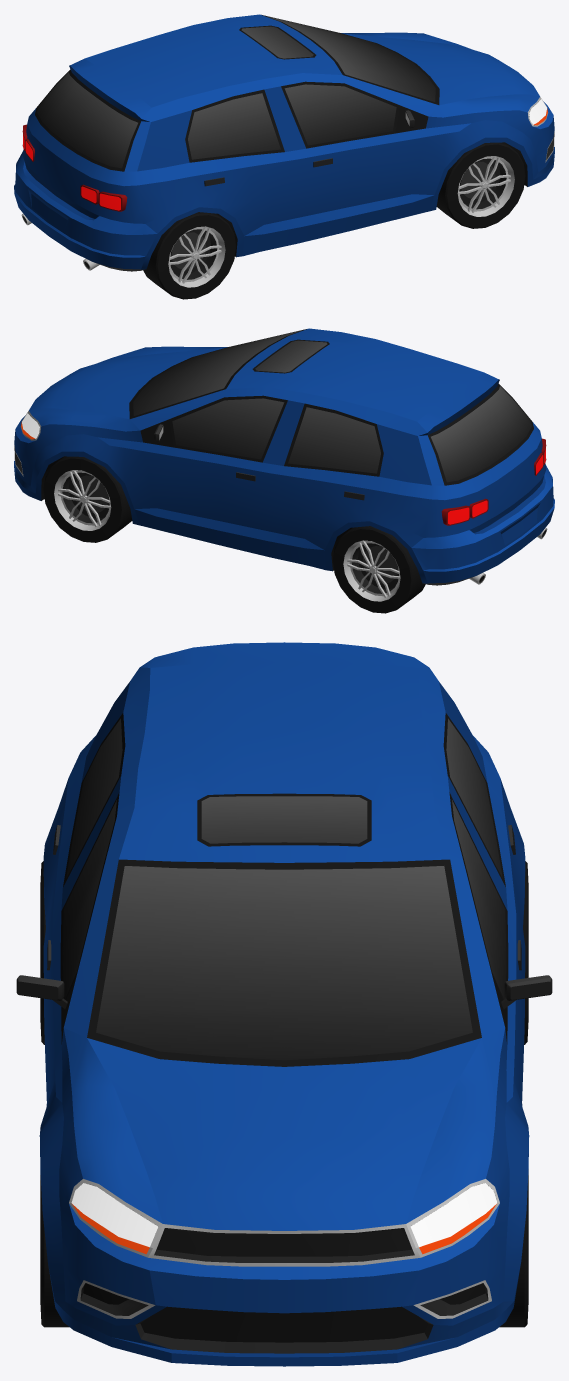
Rendered from Car_240.glb.
The picture shows the model from 3 angles, top to bottom: view 1: azimuth 30°, elevation 25°; view 2: azimuth 150°, elevation 25°; view 3: azimuth 270°, elevation 25°; orthographic projection. The views are drawn at different scales.
Parts seen in each view (by area): view 1: Car_240, wheel_3_Car_240_Wheel_2R, wheel_1_Car_240_Wheel_1R; view 2: Car_240, wheel_2_Car_240_Wheel_2L, wheel_0_Car_240_Wheel_1L; view 3: Car_240, wheel_0_Car_240_Wheel_1L, wheel_1_Car_240_Wheel_1R.
Boxes of the visible parts, left/top/right/bottom form: Car_240: left=14, top=14, right=554, bottom=271; wheel_3_Car_240_Wheel_2R: left=143, top=212, right=236, bottom=299; wheel_1_Car_240_Wheel_1R: left=436, top=142, right=525, bottom=228; Car_240: left=14, top=328, right=554, bottom=585; wheel_2_Car_240_Wheel_2L: left=332, top=526, right=425, bottom=613; wheel_0_Car_240_Wheel_1L: left=43, top=456, right=132, bottom=542; Car_240: left=16, top=642, right=552, bottom=1366; wheel_0_Car_240_Wheel_1L: left=499, top=1175, right=528, bottom=1327; wheel_1_Car_240_Wheel_1R: left=40, top=1175, right=69, bottom=1327.
Bounding box in the file's own units: 4.09 × 1.48 × 1.96.
Materials: 2 (2 with a texture image).
